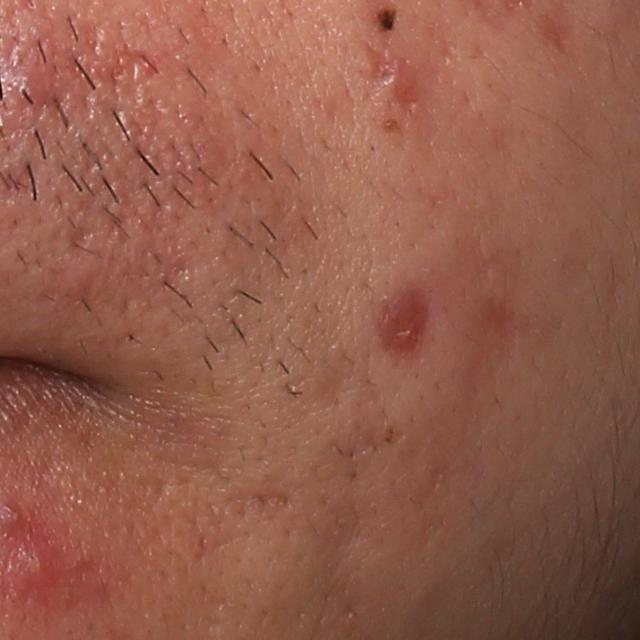atrophic_scar: (215, 484, 295, 513), (539, 12, 574, 63), (367, 49, 393, 88)
nevus: (370, 2, 401, 35)
